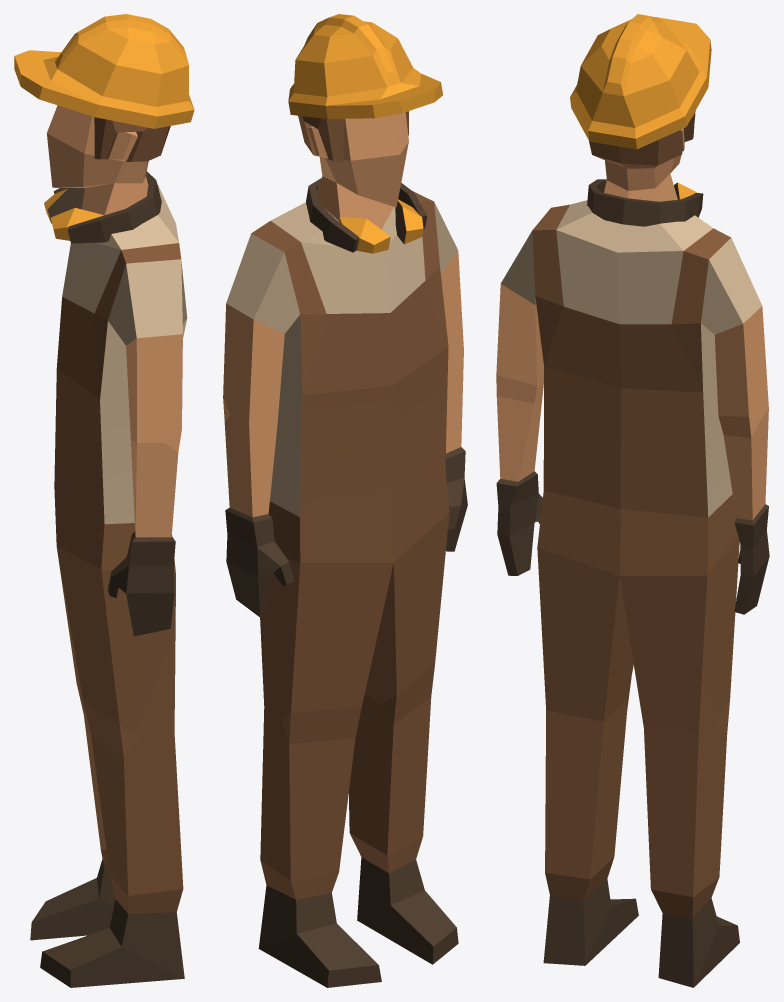
Rendered from ManConstruction.obj.
The picture shows the model from 3 angles, left to right: view 1: azimuth 30°, elevation 25°; view 2: azimuth 150°, elevation 25°; view 3: azimuth 270°, elevation 25°; orthographic projection.
Parts seen in each view (by area): view 1: man-construction-worker (2); view 2: man-construction-worker (2); view 3: man-construction-worker (2).
Part boxes in pixels (x1,y1,x2,y2): man-construction-worker (2): (14, 14, 194, 987); man-construction-worker (2): (223, 14, 467, 987); man-construction-worker (2): (496, 14, 769, 987).
Bounding box in the file's own units: 0.3545 × 1.89 × 0.5008.
